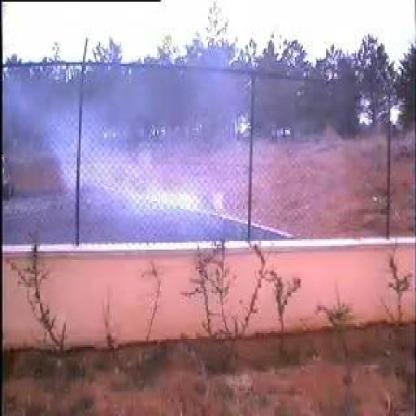-: (80, 75, 250, 246)
